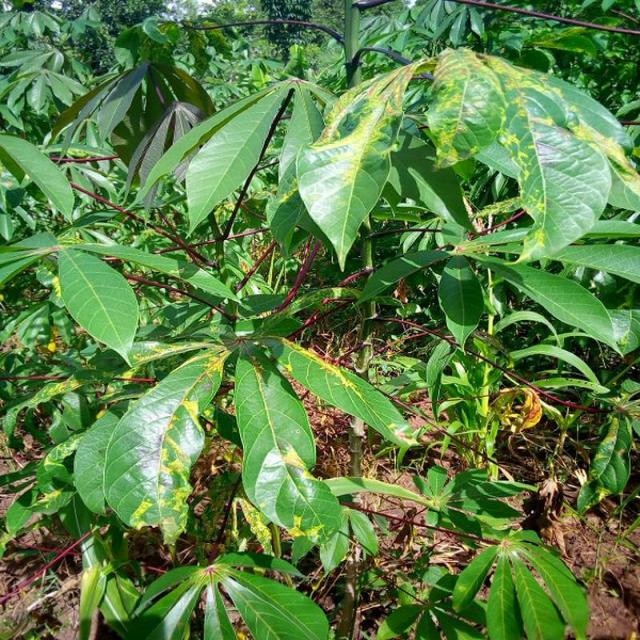cassava leaf: (424, 45, 637, 264), (57, 245, 139, 368)
